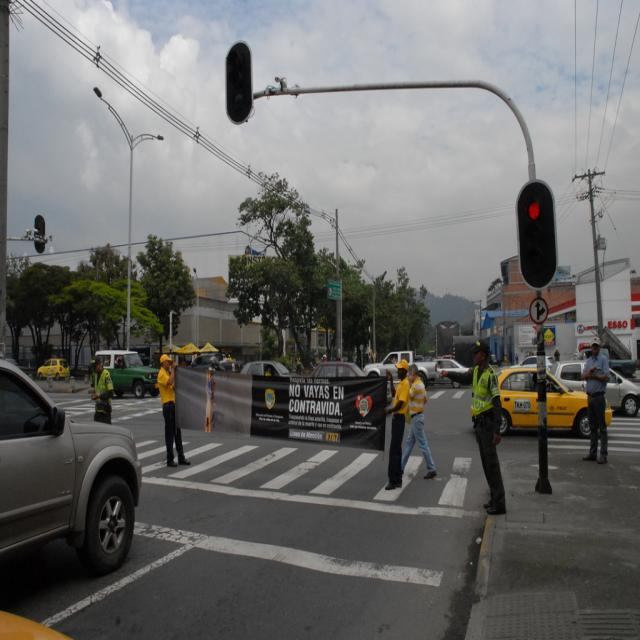off traffic light: (225, 47, 253, 114)
road_sign: (528, 296, 549, 324)
traffic light: (518, 189, 556, 280)
